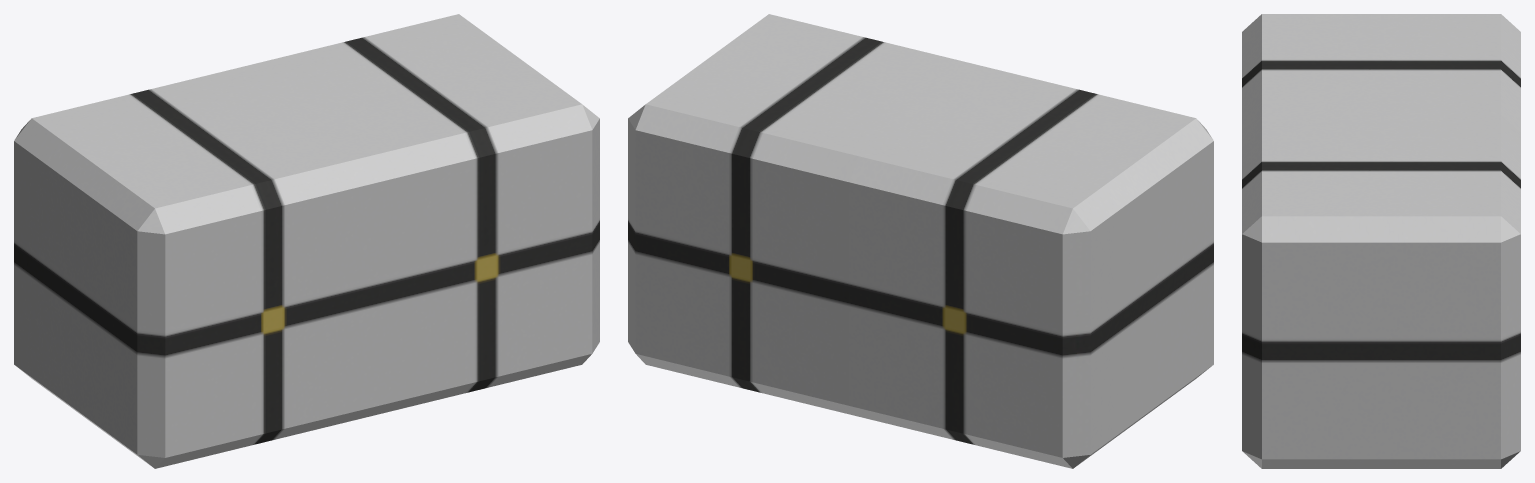
Rendered from Cargo_Box_1x2.fbx.
3 views of the same model, side by side, from view 1: azimuth 30°, elevation 25°; view 2: azimuth 150°, elevation 25°; view 3: azimuth 270°, elevation 25° (orthographic). The views are drawn at different scales.
Visible parts, largest first — view 1: Cargo_Box_1x2; view 2: Cargo_Box_1x2; view 3: Cargo_Box_1x2.
Boxes of the visible parts, box(x1,y1,x2,y2) form: Cargo_Box_1x2: box(14, 14, 599, 468); Cargo_Box_1x2: box(628, 14, 1213, 468); Cargo_Box_1x2: box(1242, 14, 1520, 468).
Size of the model in its own units: 2.07 by 1.12 by 1.12.
